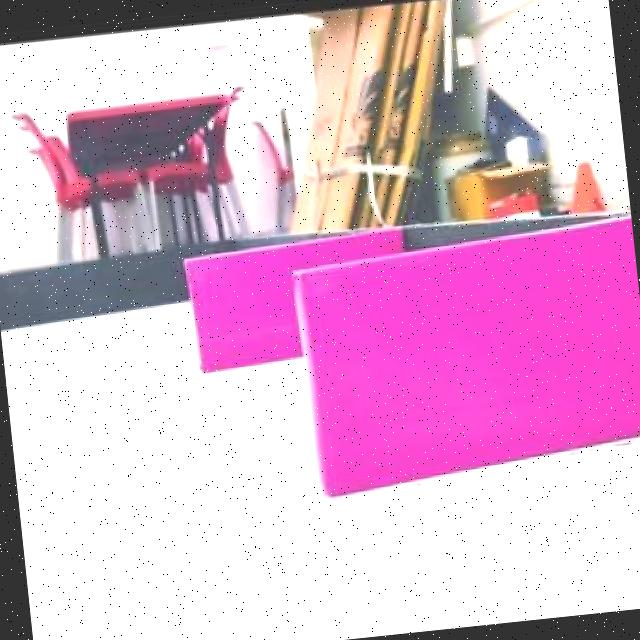xparking: (296, 239, 640, 492), (188, 244, 298, 375)
